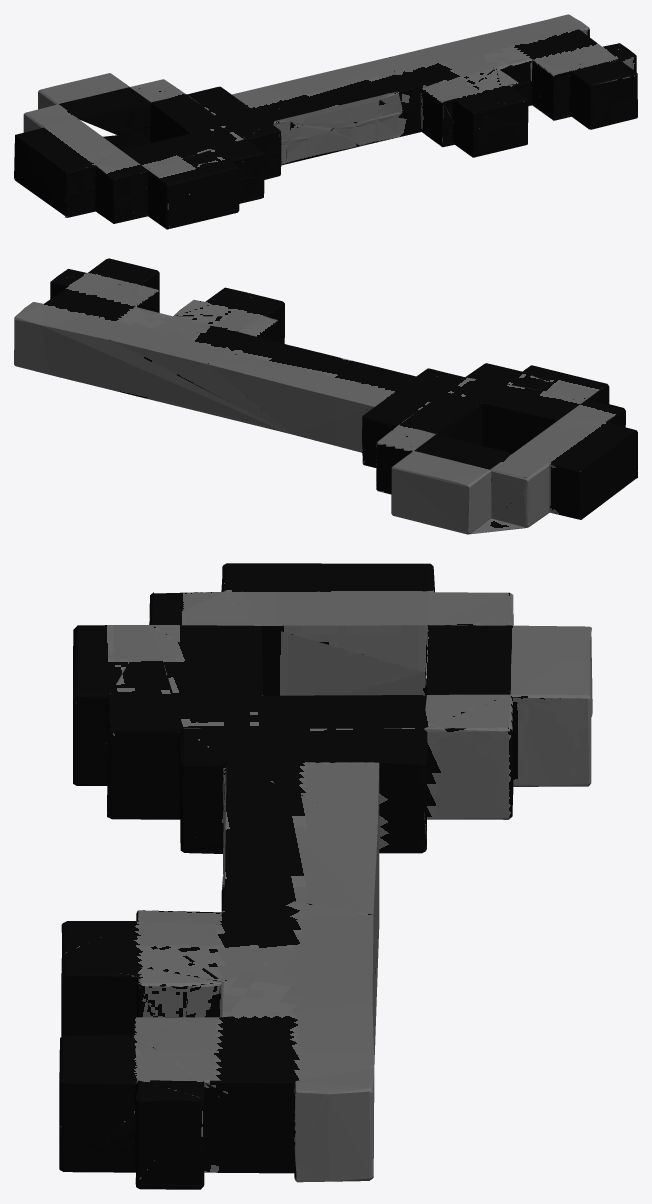
The picture shows the model from 3 angles, top to bottom: view 1: azimuth 30°, elevation 25°; view 2: azimuth 150°, elevation 25°; view 3: azimuth 270°, elevation 25°; orthographic projection. The views are drawn at different scales.
Parts seen in each view (by area): view 1: OBJ102; view 2: OBJ102; view 3: OBJ102.
Boxes of the visible parts, x1,y1,x2,y2 form: OBJ102: (14,14,637,229); OBJ102: (14,258,637,534); OBJ102: (59,563,592,1189).
Bounding box in the file's own units: 0.3243 × 0.026 × 0.1362.
Materials: 1 (1 with a texture image).
